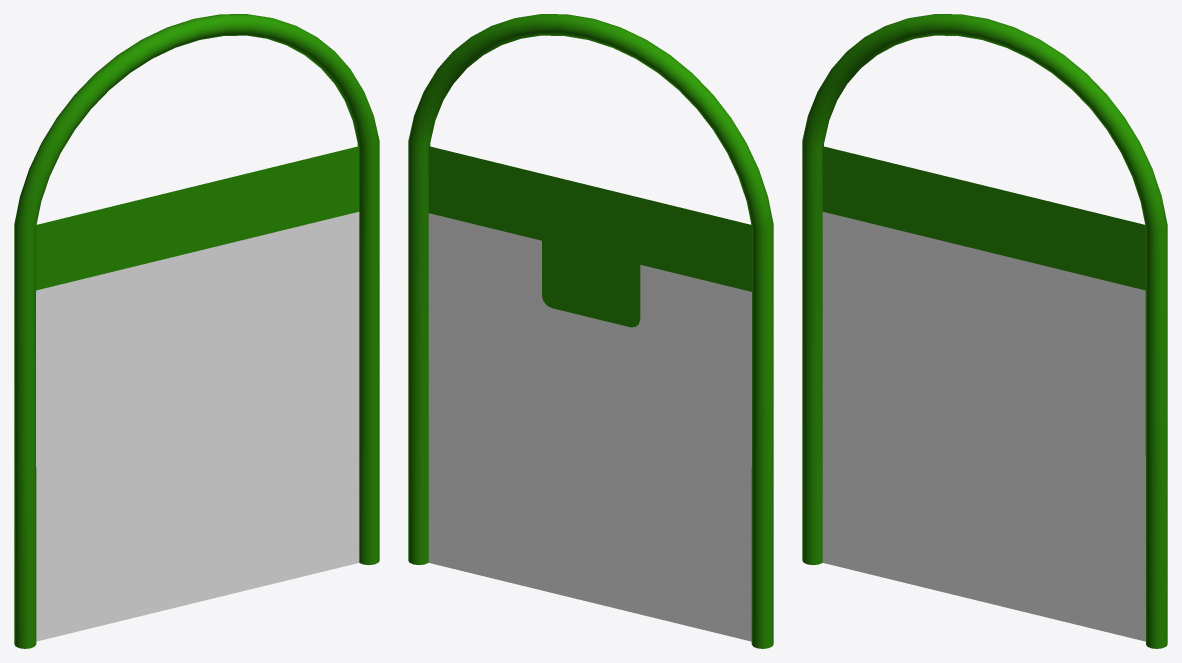
Rendered from Gate-2 (1).FBX.
3 renders of one model, left to right at view 1: azimuth 30°, elevation 25°; view 2: azimuth 150°, elevation 25°; view 3: azimuth 330°, elevation 25°, orthographic.
Visible parts, largest first — view 1: Gate-2_Gradiant, Gate-2_Base; view 2: Gate-2_Gradiant, Gate-2_Base; view 3: Gate-2_Gradiant, Gate-2_Base.
Part boxes in pixels (x1,y1,x2,y2): Gate-2_Gradiant: (36, 212, 359, 641); Gate-2_Base: (14, 14, 379, 648); Gate-2_Gradiant: (428, 213, 751, 641); Gate-2_Base: (408, 14, 773, 648); Gate-2_Gradiant: (822, 212, 1145, 641); Gate-2_Base: (802, 14, 1167, 648).
Bounding box in the file's own units: 76.21 × 117 × 4.
Materials: 2 (1 with a texture image).
